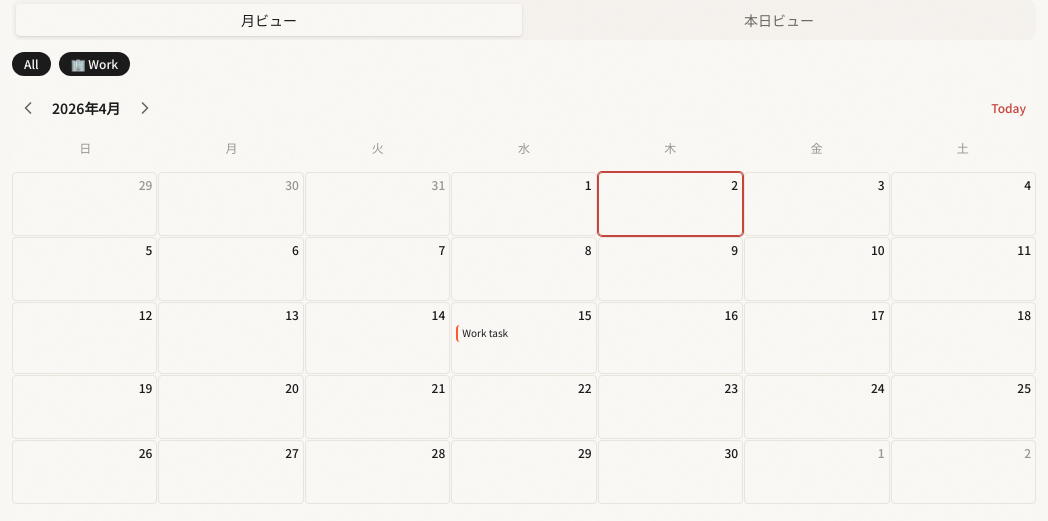
it: CalendarPage - Project Filter (SDD-004-FE-04) › should toggle a project chip back on to show its todos again
This screenshot has width=1048, height=521.
Note: Toggle off
Click the button with test id "filter-chip-p1" at (94, 64), box top-left (59, 52), bottom-right (130, 76)
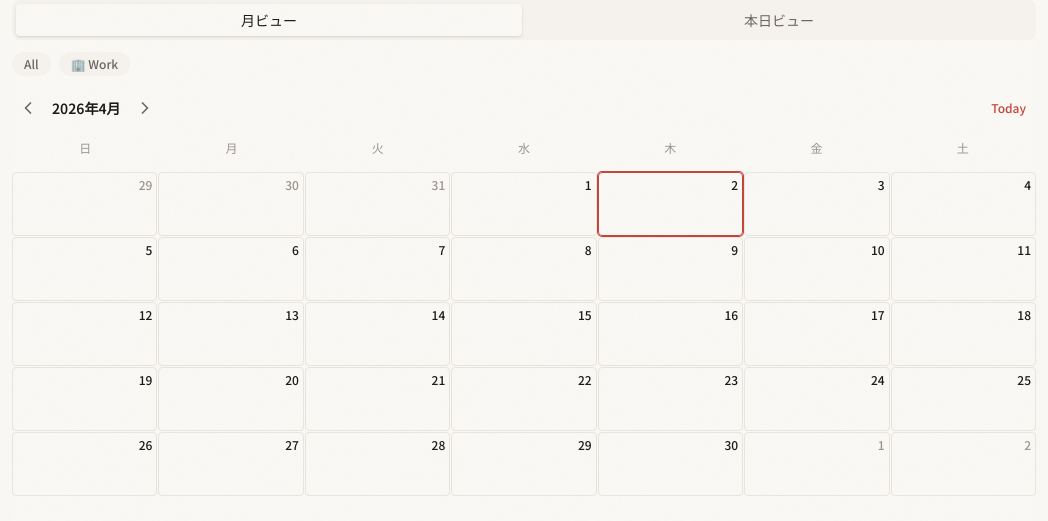
Check: the text with test id "todo-badge-t1" is gone
Note: Toggle back on
Click the button with test id "filter-chip-p1" at (94, 64), box top-left (59, 52), bottom-right (130, 76)
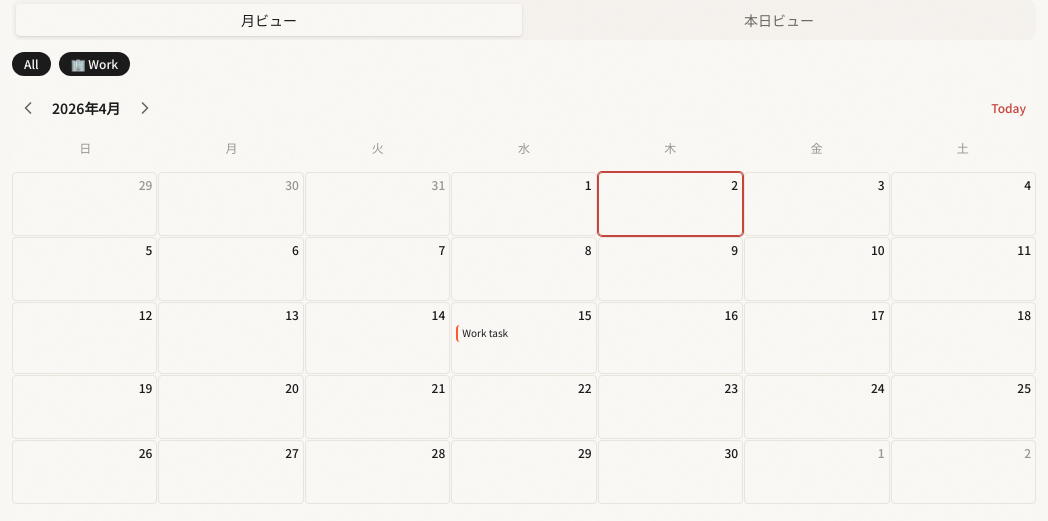
Check: the text "Work task" is shown, box top-left (456, 325), bottom-right (592, 342)
